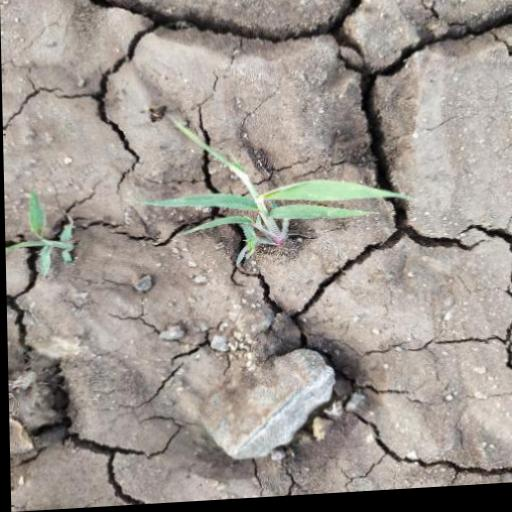weed: (121, 76, 417, 307)
